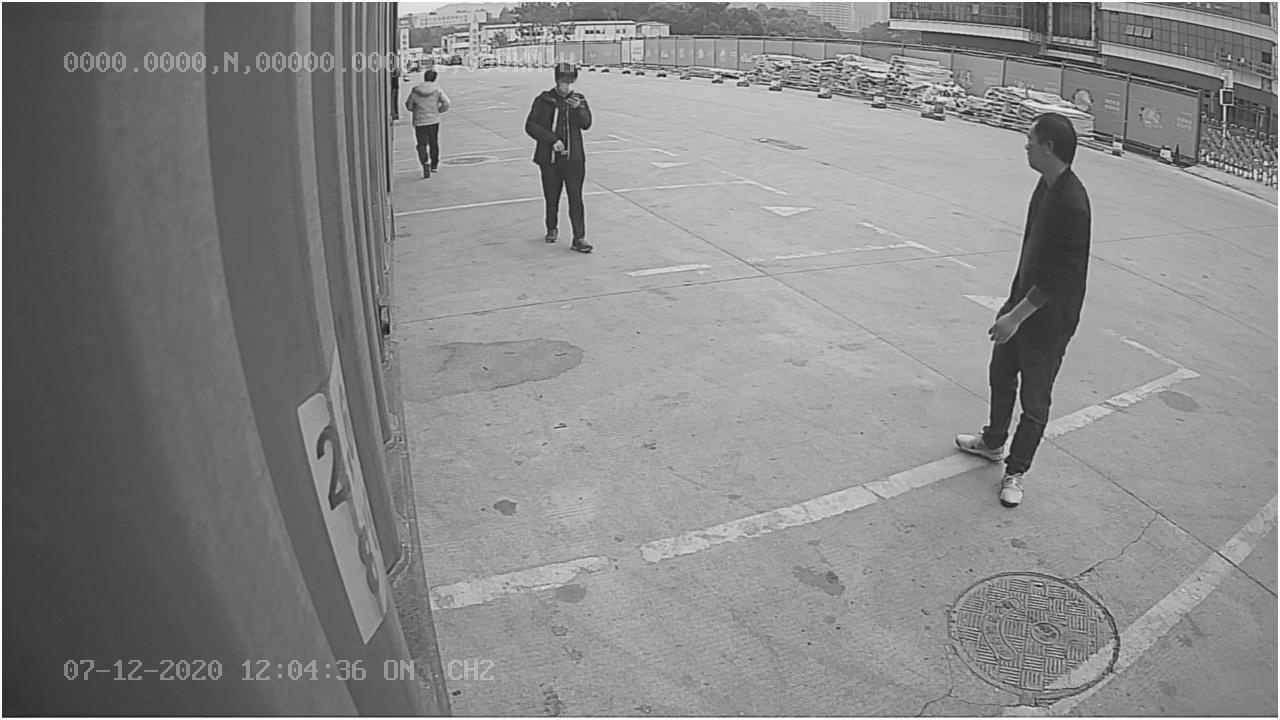person: (952, 104, 1099, 511)
